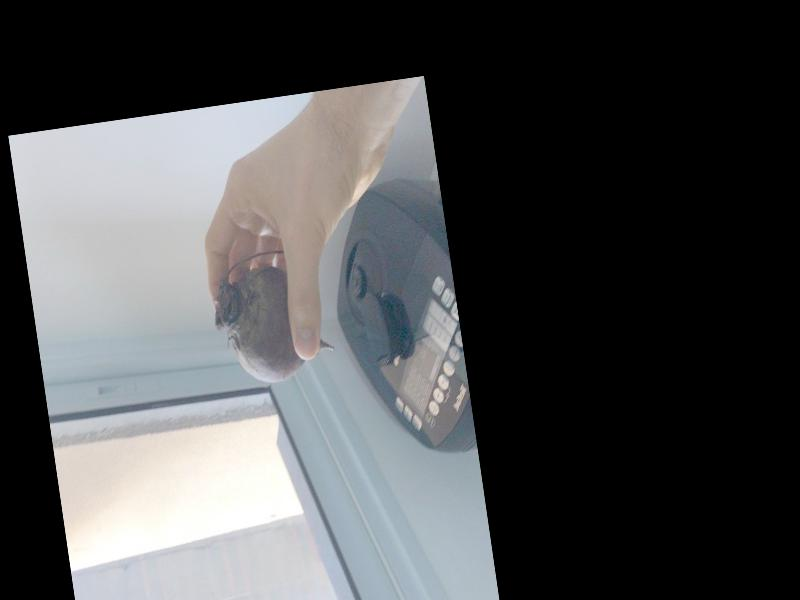Beet: (206, 246, 337, 389)
